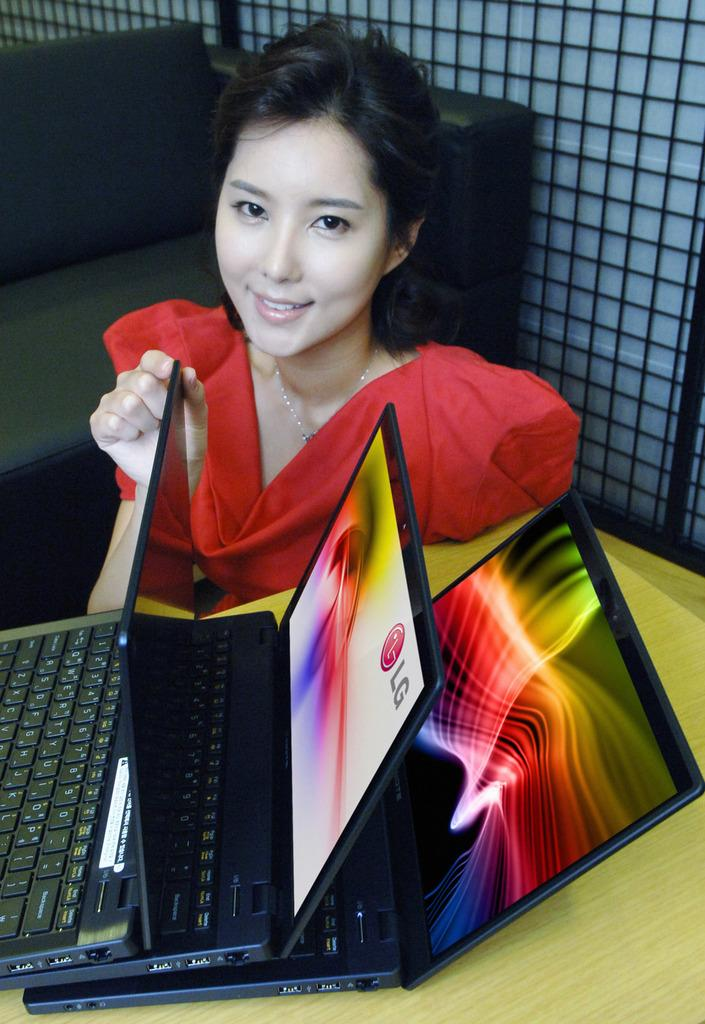Laptop: (23, 488, 704, 1016), (4, 404, 443, 993), (1, 359, 206, 977)
